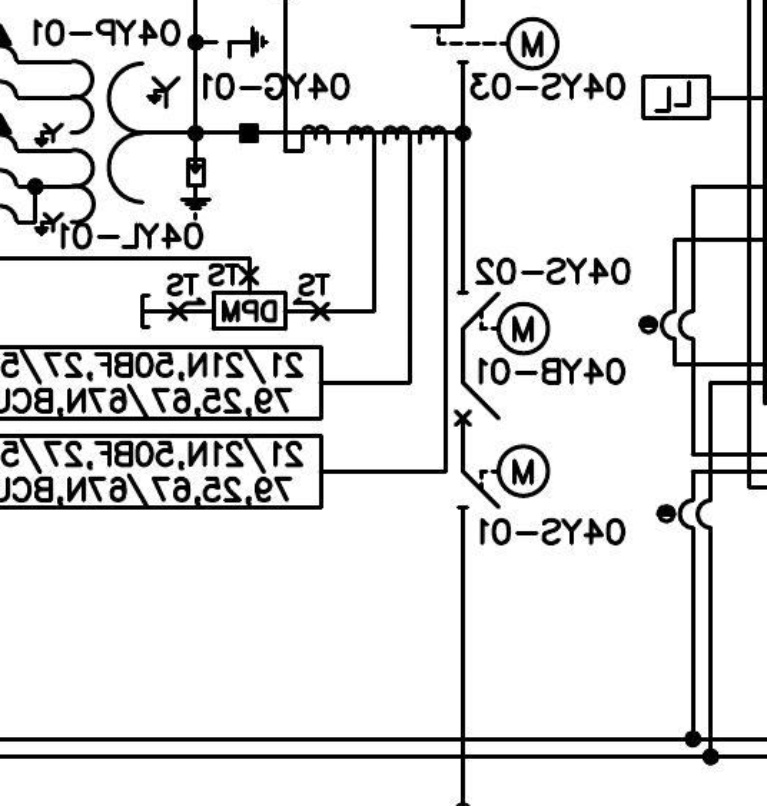115_1way_ds_w_motor: (409, 17, 562, 73), (456, 290, 553, 357), (456, 444, 553, 511)
115_breaker: (453, 382, 501, 428)
115_gs: (213, 24, 271, 61)
115_la: (179, 157, 214, 222)
DPM: (212, 290, 289, 332)
LL: (641, 73, 713, 121)
